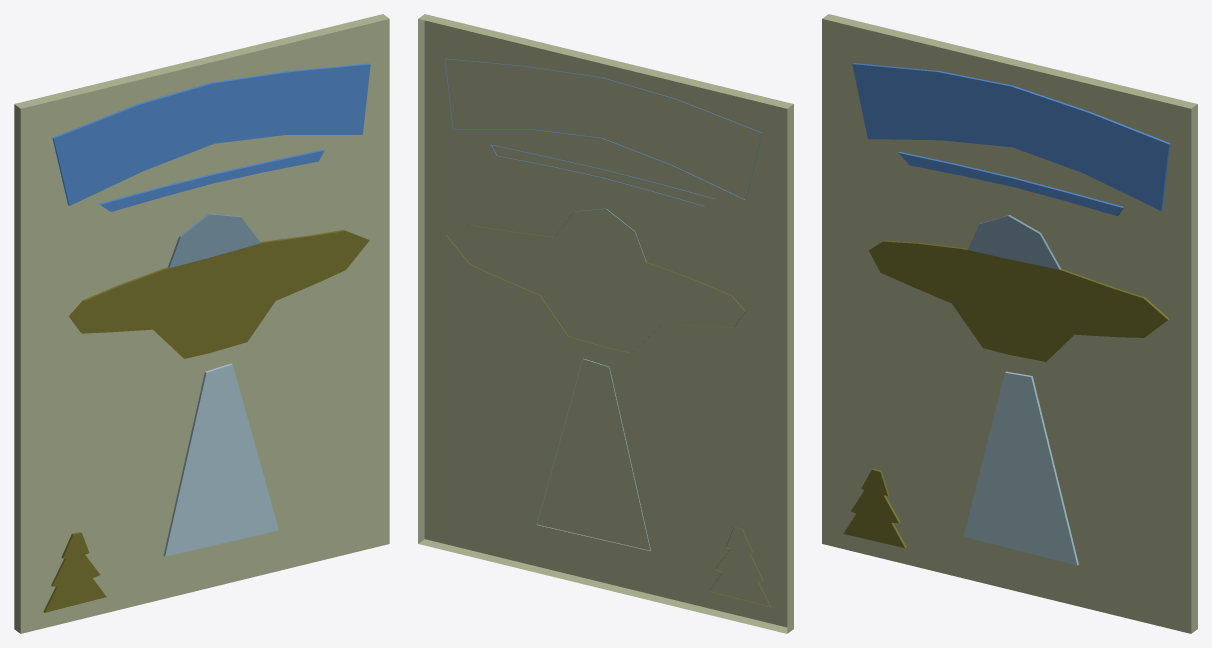
File: Poster_2.fbx
3 renders of one model, left to right at view 1: azimuth 30°, elevation 25°; view 2: azimuth 150°, elevation 25°; view 3: azimuth 330°, elevation 25°, orthographic.
Visible parts, largest first — view 1: Poster_2; view 2: Poster_2; view 3: Poster_2.
Boxes of the visible parts, box(x1,y1,x2,y2) form: Poster_2: box(14, 14, 389, 633); Poster_2: box(418, 14, 793, 633); Poster_2: box(822, 14, 1197, 633).
Bounding box in the file's own units: 67.87 × 2.57 × 92.27.
